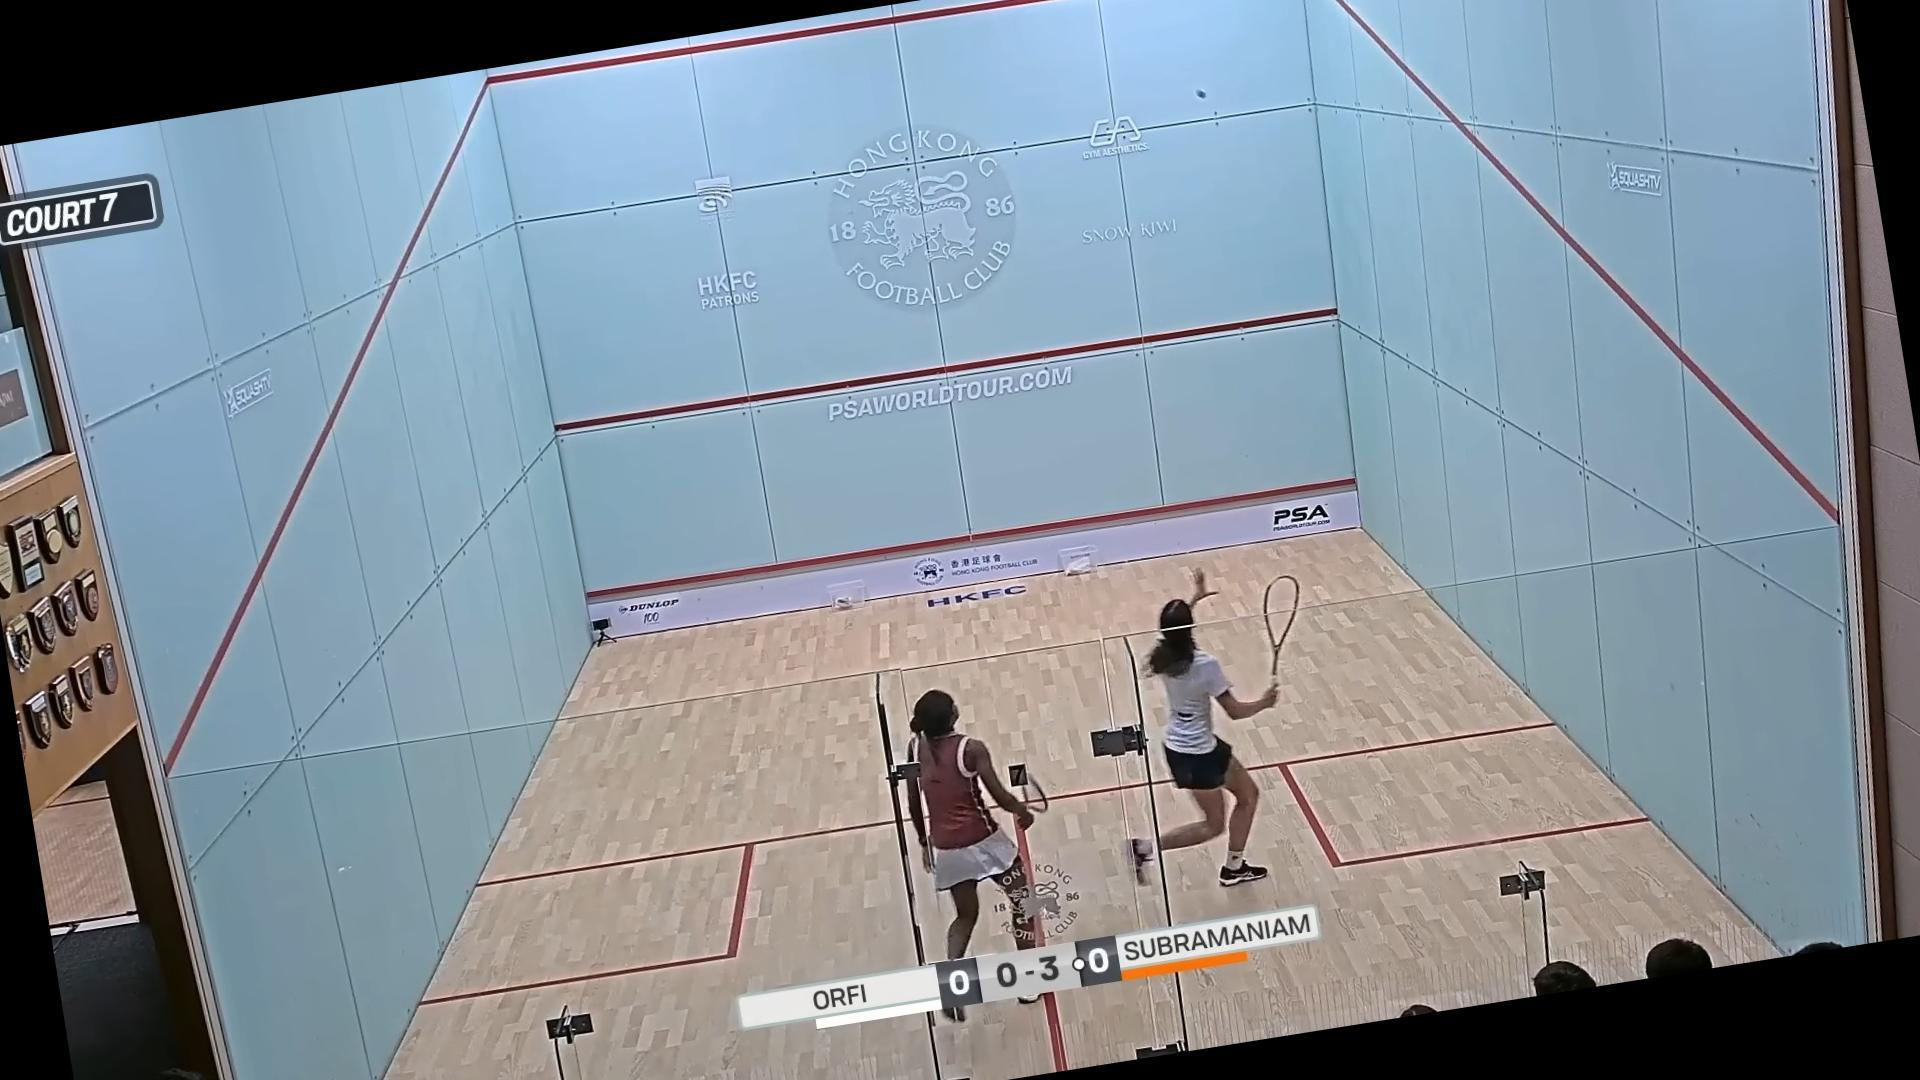Squash-Ball: (1183, 79, 1218, 112)
